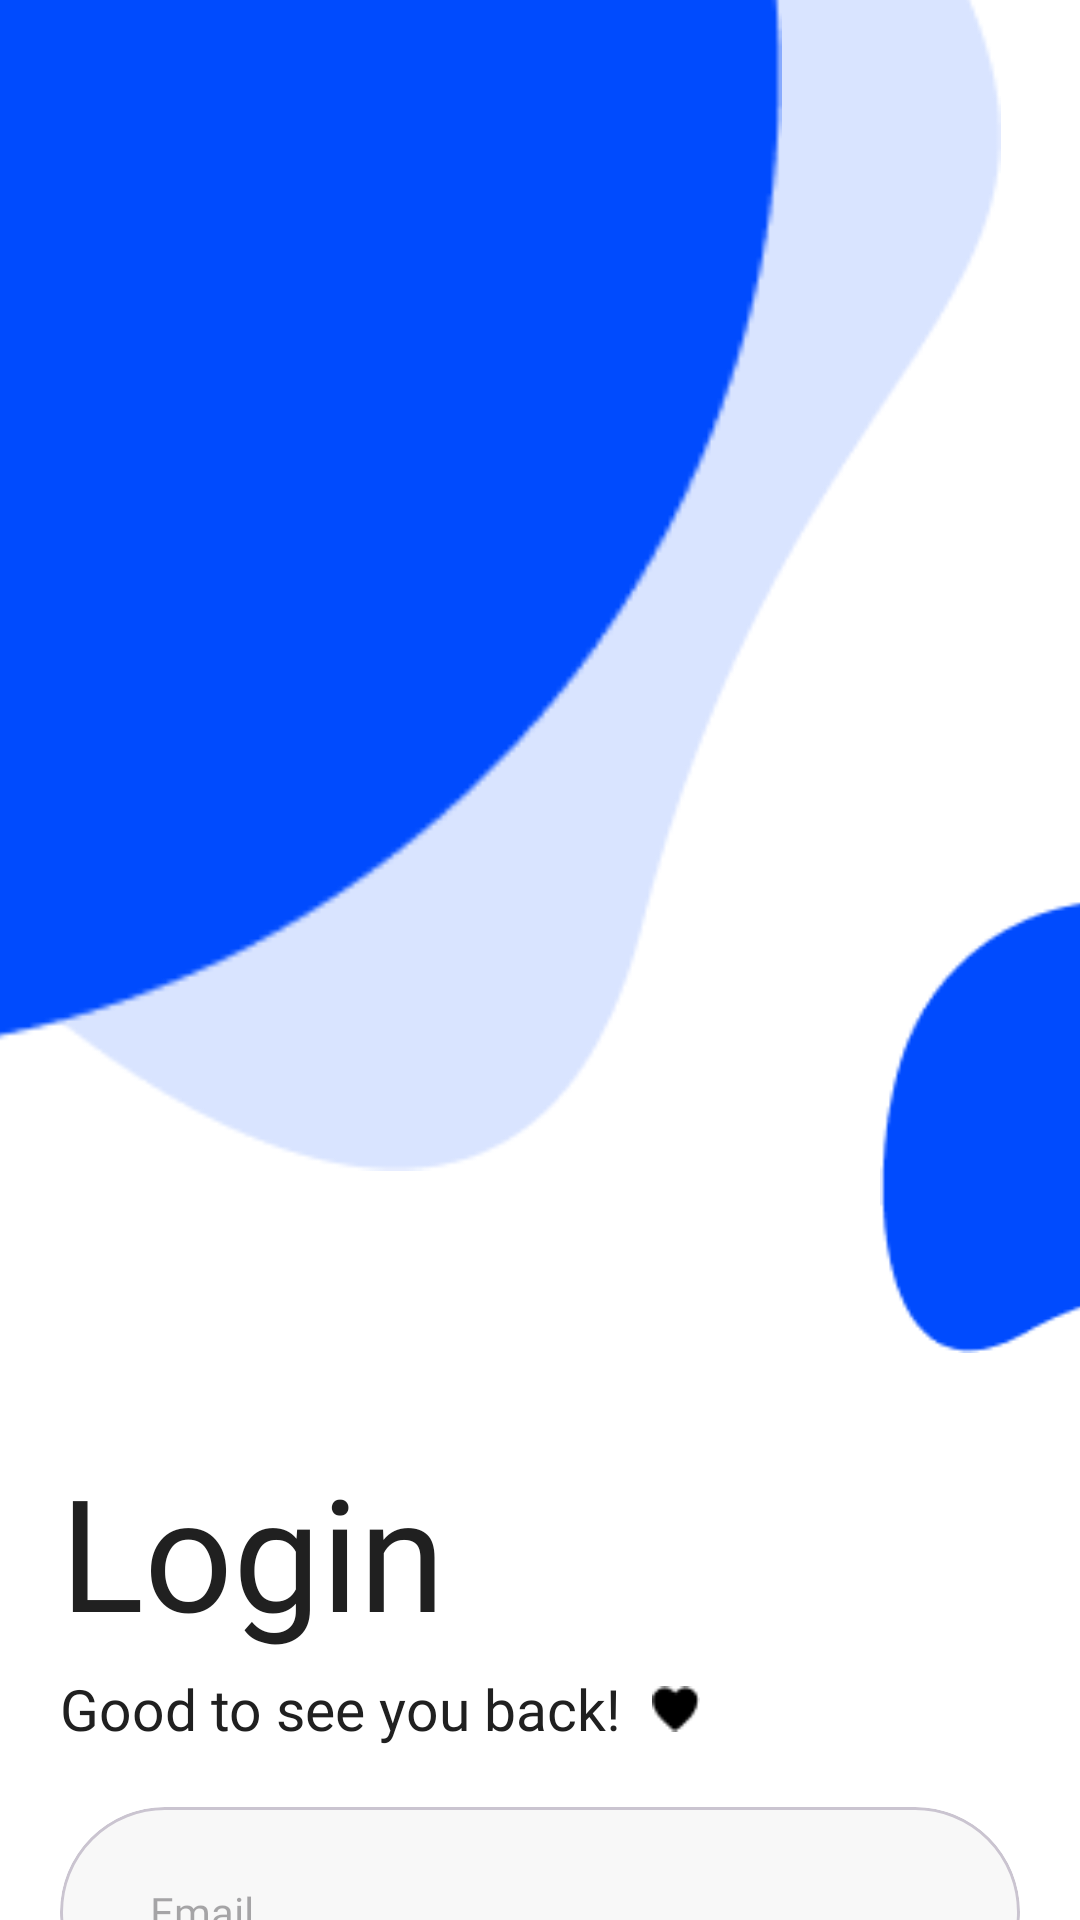

Point at icon controls on the screen. Image size 1080×1920, points as (x,y).
hearticonlogin: (676,1709)
